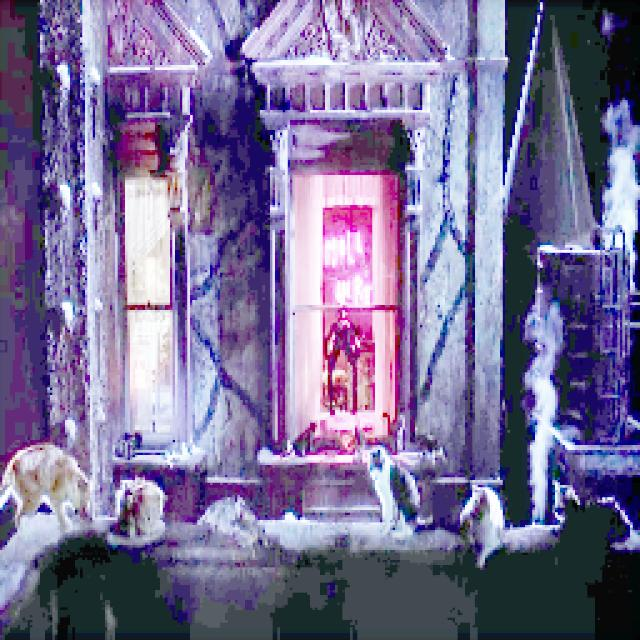cat: (0, 448, 97, 533), (356, 437, 430, 538), (547, 474, 640, 547), (116, 469, 165, 547), (465, 484, 509, 564)
